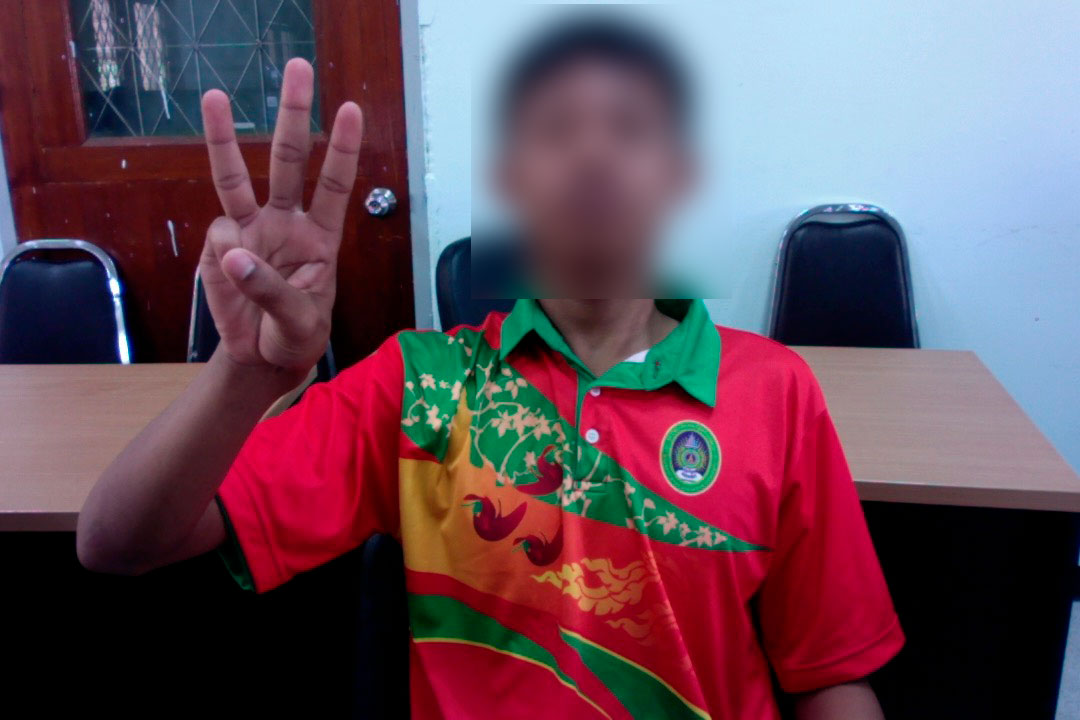wor: (180, 57, 367, 378)
